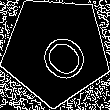O_NW: (23, 17, 88, 83)
